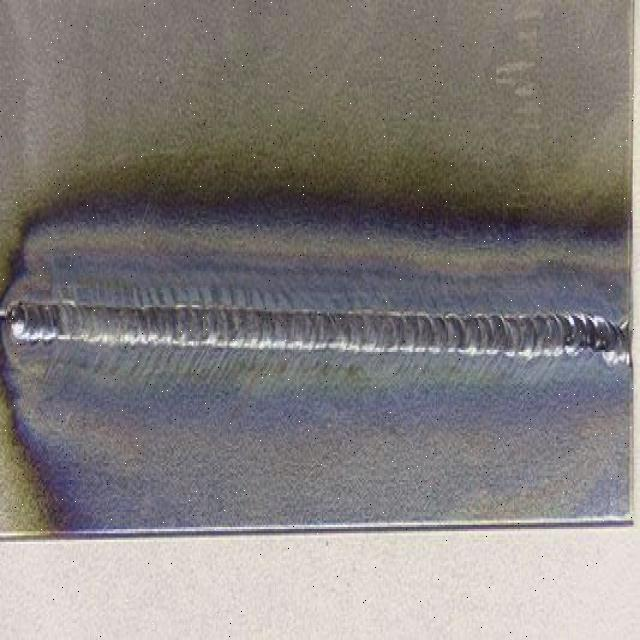Good Weld: (7, 293, 626, 385)
